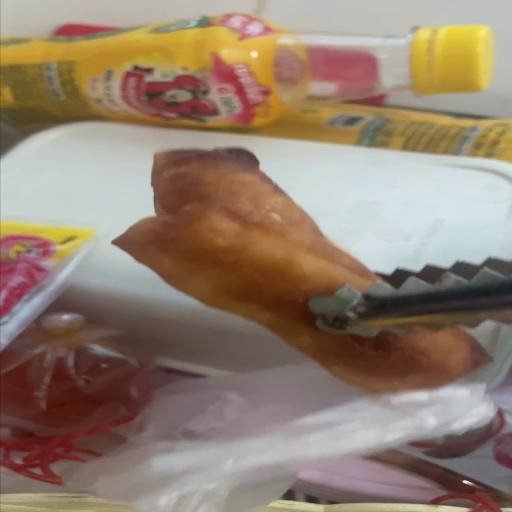street_burnt_defect: (115, 147, 489, 395)
